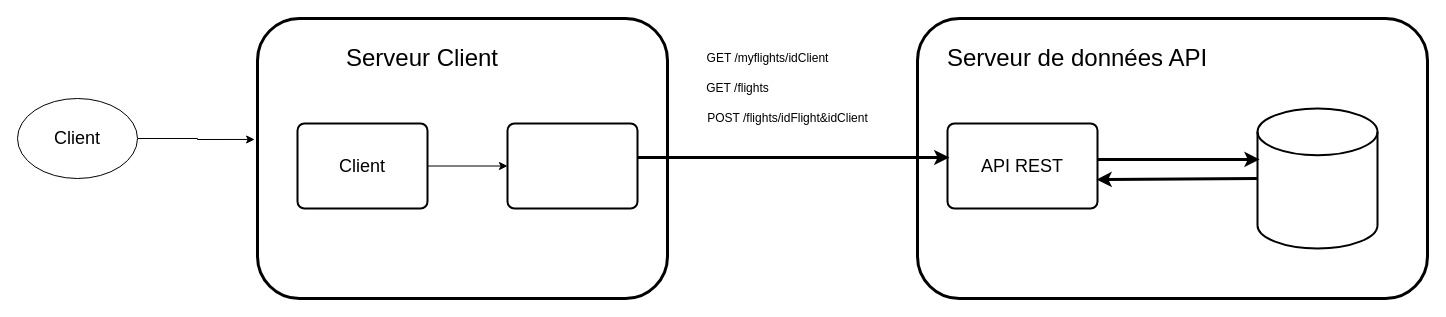
Some shapes in this 1446 by 317 pixel diagram are drawn without their labels. Each missing label, with the centre of its shape:
Database: the point at 1317,178
Proxy: the point at 572,165
